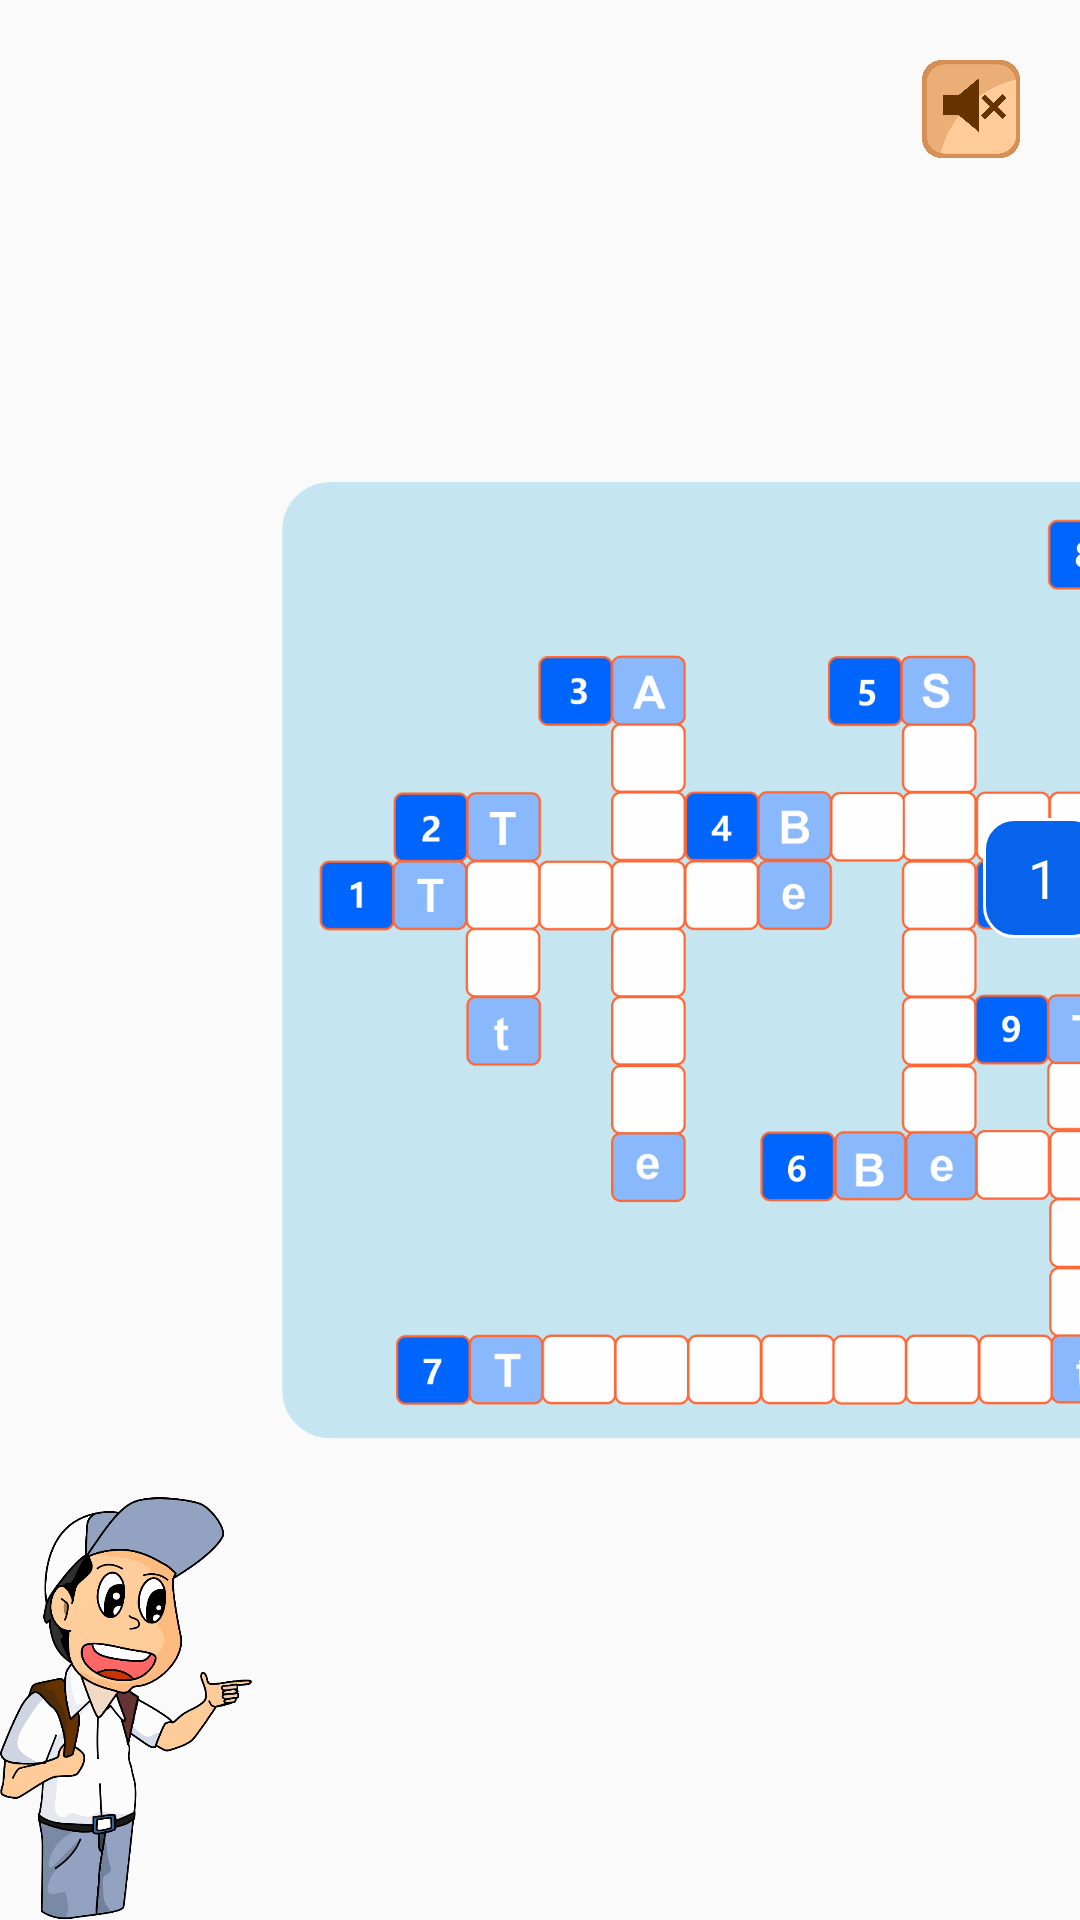

Named icons in this screenshot (1080 × 1920) and their bounding boxes, box(x1, y1, x2, y2):
sound of: box(922, 60, 1020, 158)
